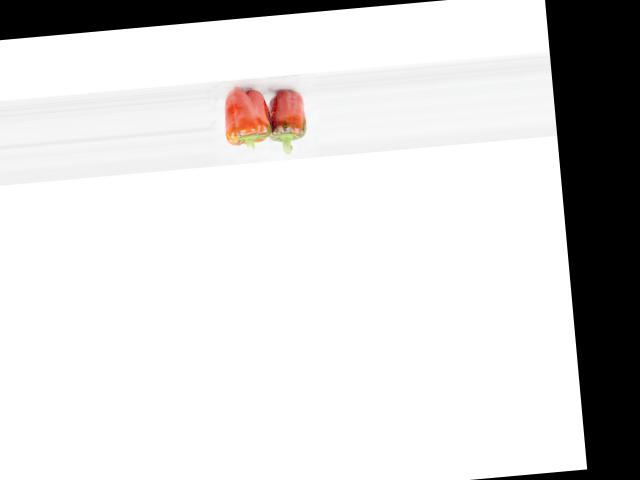bell_pepper: (214, 85, 271, 155)
